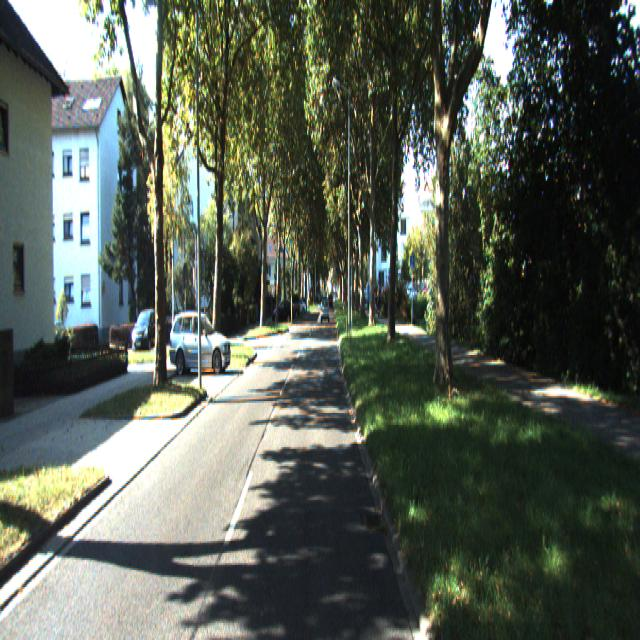Car: (166, 316, 233, 380)
DontCare: (269, 279, 339, 336), (372, 272, 432, 311), (128, 290, 158, 359)
